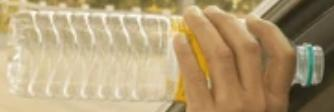Plastic: (5, 9, 327, 105)
